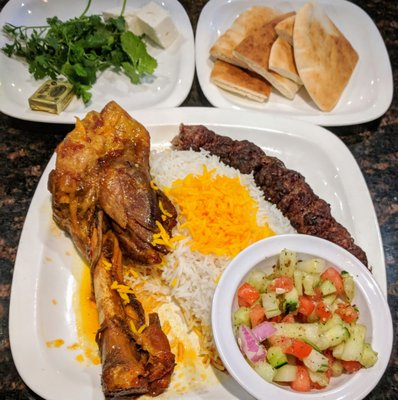soup: (49, 100, 181, 270)
sushi: (210, 234, 395, 400)
